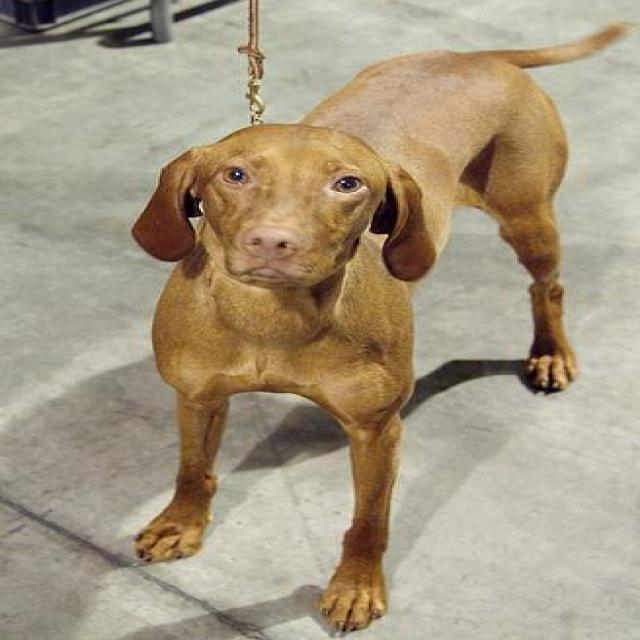vizsla: (121, 19, 624, 634)
